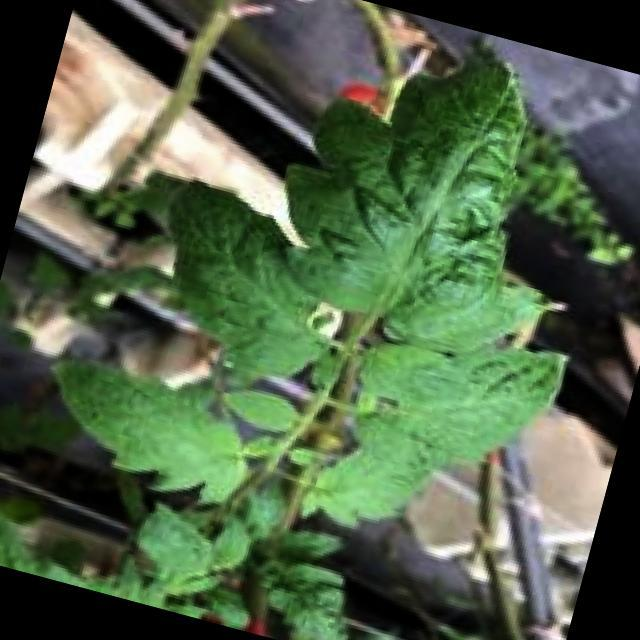Tomato healthy leaf: (51, 47, 571, 528)
